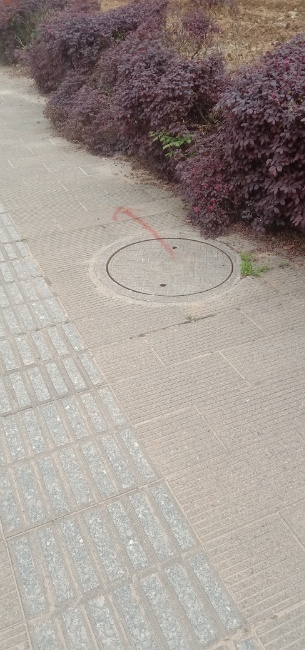good: (94, 231, 240, 299)
